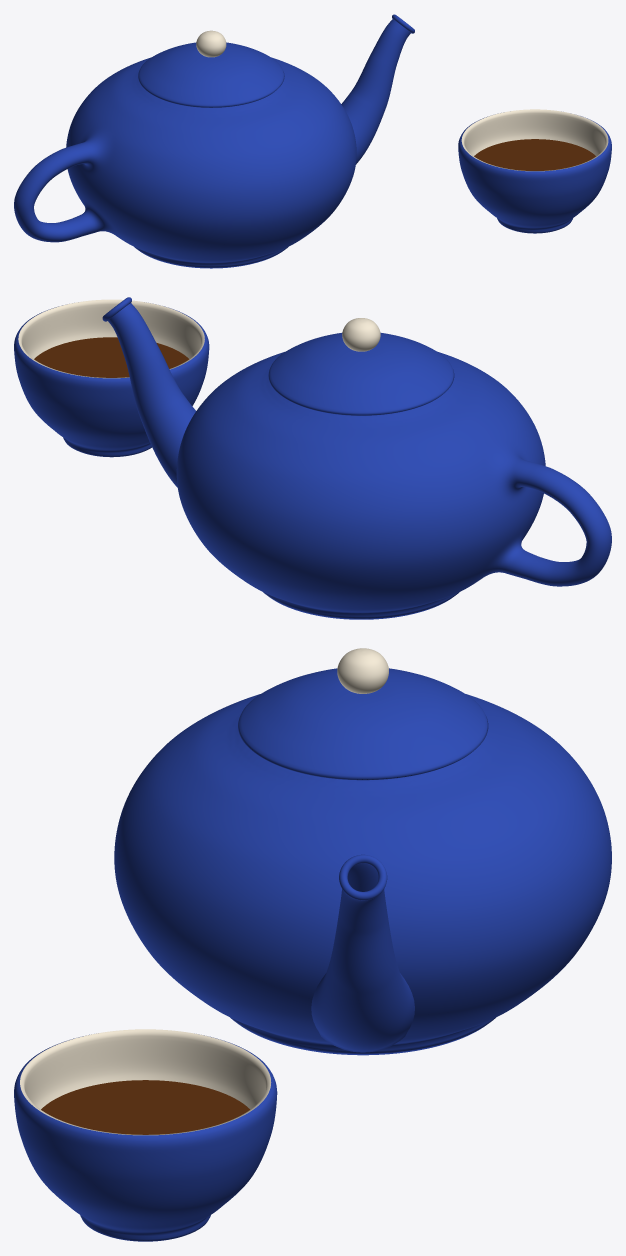
File: teapot.glb
3 renders of one model, top to bottom at view 1: azimuth 30°, elevation 25°; view 2: azimuth 150°, elevation 25°; view 3: azimuth 270°, elevation 25°, orthographic. The views are drawn at different scales.
Visible parts, largest first — view 1: BodyGlaze, CupGlaze, LidDome, CupInside, Spout, CupTea, LidKnob; view 2: BodyGlaze, LidDome, CupGlaze, Spout, CupInside, CupTea, LidKnob; view 3: BodyGlaze, CupGlaze, LidDome, CupInside, Spout, CupTea, LidKnob, SpoutLip.
Part boxes in pixels (left/top/right/bottom): BodyGlaze: left=14, top=57, right=356, bottom=268; CupGlaze: left=458, top=116, right=611, bottom=233; LidDome: left=138, top=42, right=284, bottom=107; CupInside: left=461, top=109, right=608, bottom=171; Spout: left=341, top=19, right=410, bottom=164; CupTea: left=474, top=139, right=595, bottom=170; LidKnob: left=196, top=30, right=226, bottom=57; BodyGlaze: left=176, top=351, right=611, bottom=619; LidDome: left=268, top=332, right=454, bottom=415; CupGlaze: left=14, top=305, right=209, bottom=457; Spout: left=108, top=303, right=195, bottom=487; CupInside: left=18, top=299, right=204, bottom=378; CupTea: left=34, top=337, right=188, bottom=377; LidKnob: left=342, top=318, right=380, bottom=351; BodyGlaze: left=114, top=694, right=611, bottom=1055; CupGlaze: left=14, top=1034, right=277, bottom=1241; LidDome: left=238, top=668, right=488, bottom=780; CupInside: left=20, top=1029, right=271, bottom=1135; Spout: left=311, top=863, right=414, bottom=1052; CupTea: left=41, top=1080, right=249, bottom=1134; LidKnob: left=337, top=648, right=388, bottom=693; SpoutLip: left=339, top=854, right=387, bottom=900.
Size of what is drawn, in the model's own units: 5.22 by 1.94 by 3.02.
